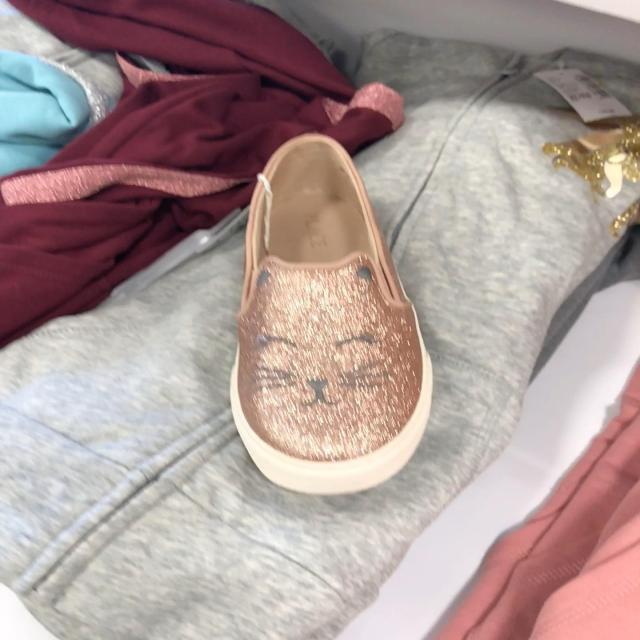shoe: (229, 134, 431, 498)
